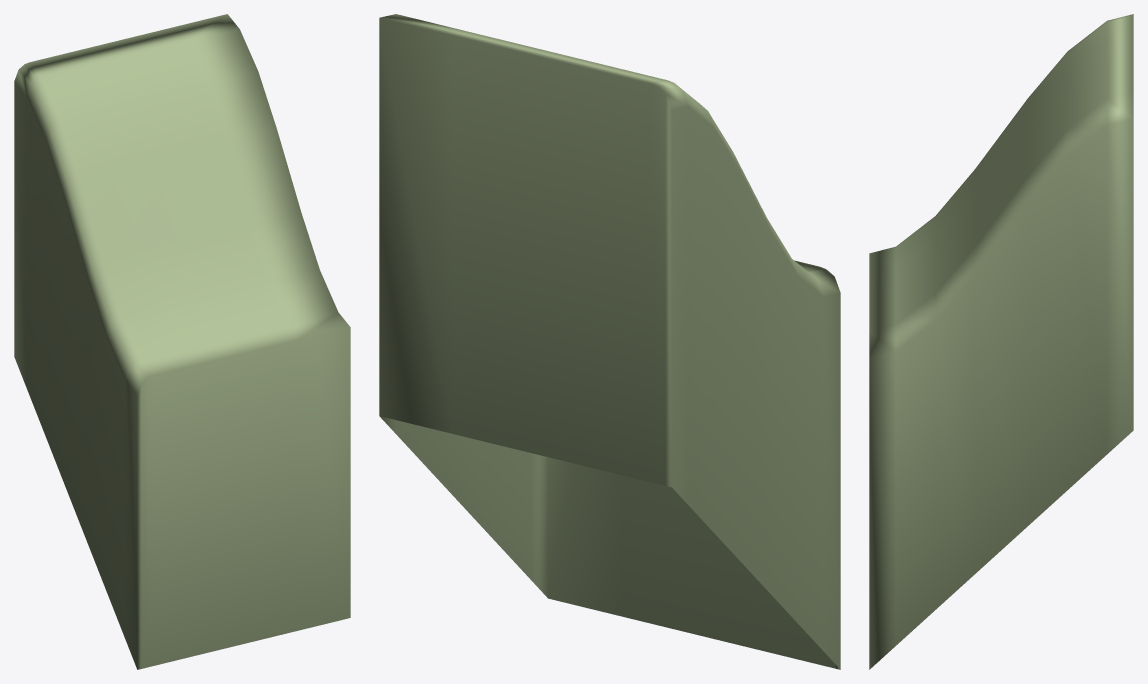
The model's file is ground-ramp-l-00.glb.
The picture shows the model from 3 angles, left to right: view 1: azimuth 30°, elevation 25°; view 2: azimuth 150°, elevation 25°; view 3: azimuth 270°, elevation 25°; orthographic projection. The views are drawn at different scales.
Visible parts, largest first — view 1: ground-ramp-l-00; view 2: ground-ramp-l-00; view 3: ground-ramp-l-00.
Boxes of the visible parts, x1,y1,x2,y2 form: ground-ramp-l-00: (14, 14, 350, 669); ground-ramp-l-00: (379, 14, 840, 669); ground-ramp-l-00: (869, 14, 1133, 669).
Bounding box in the file's own units: 1 × 2.3 × 1.
